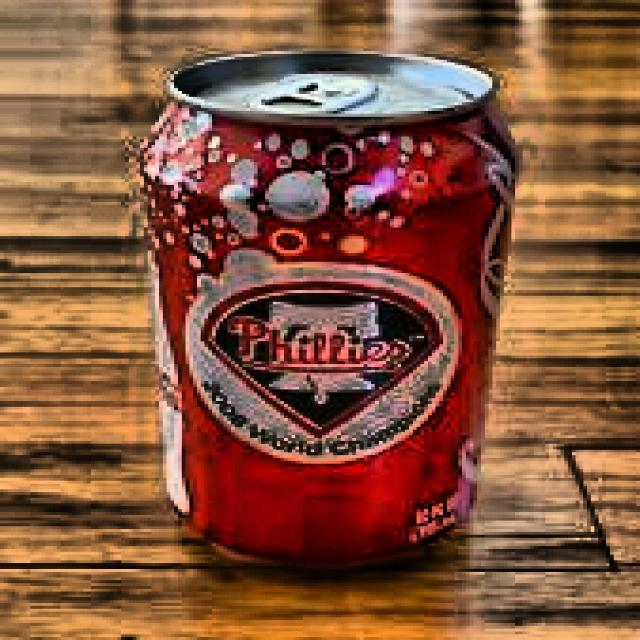Cans: (125, 31, 521, 582)
